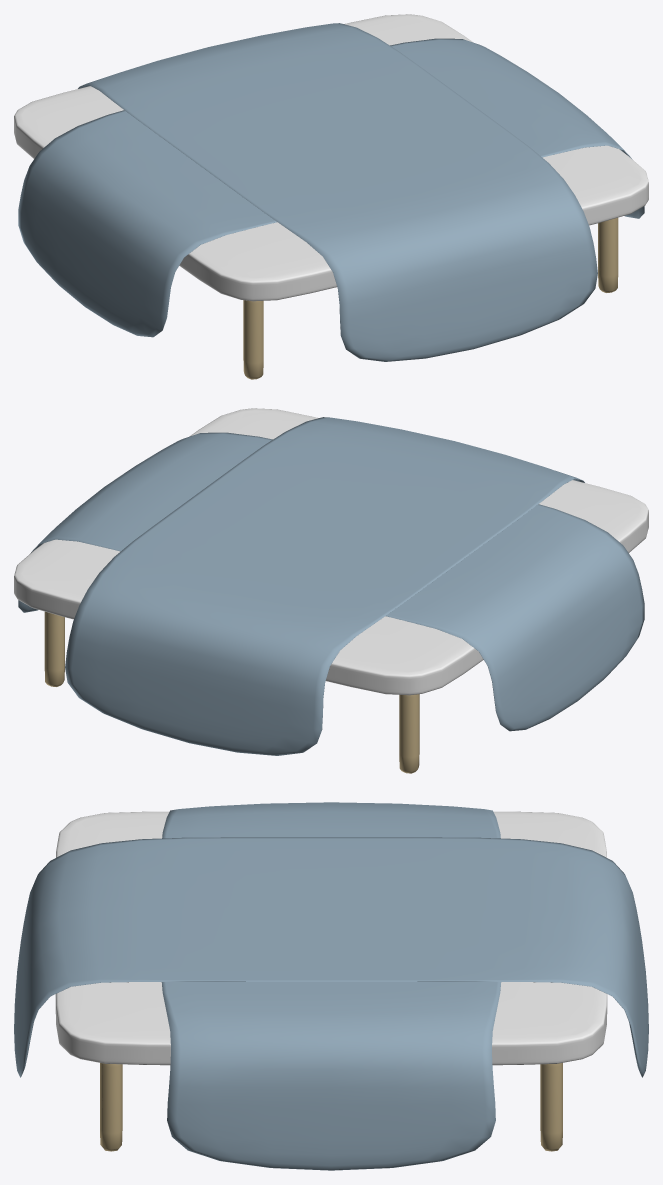
Rendered from Mesa2x2.fbx.
3 views of the same model, one above another, from view 1: azimuth 30°, elevation 25°; view 2: azimuth 150°, elevation 25°; view 3: azimuth 270°, elevation 25° (orthographic). The views are drawn at different scales.
Visible parts, largest first — view 1: Cube.017, Mesa; view 2: Cube.017, Mesa; view 3: Cube.017, Mesa.
Boxes of the visible parts, left/top/right/bottom form: Cube.017: left=18, top=23, right=644, bottom=361; Mesa: left=14, top=14, right=648, bottom=379; Cube.017: left=18, top=417, right=644, bottom=755; Mesa: left=14, top=408, right=648, bottom=773; Cube.017: left=14, top=802, right=648, bottom=1170; Mesa: left=55, top=811, right=607, bottom=1151.
Size of the model in its own units: 178 by 44.56 by 178.
